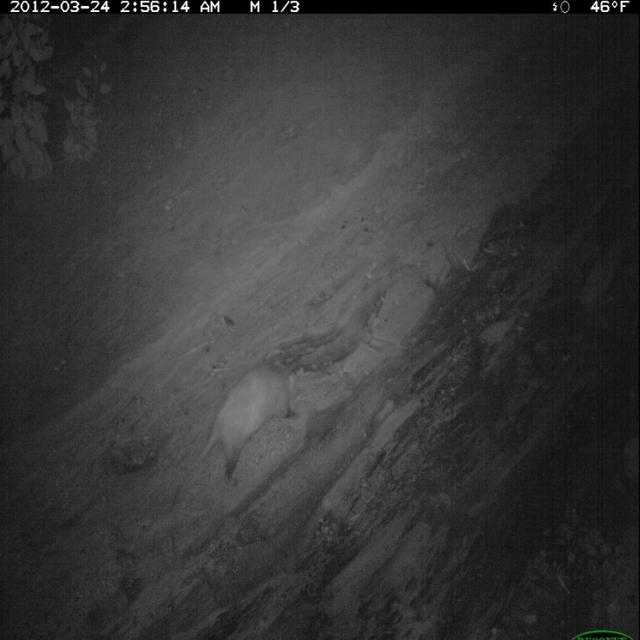opossum: (168, 359, 303, 516)
